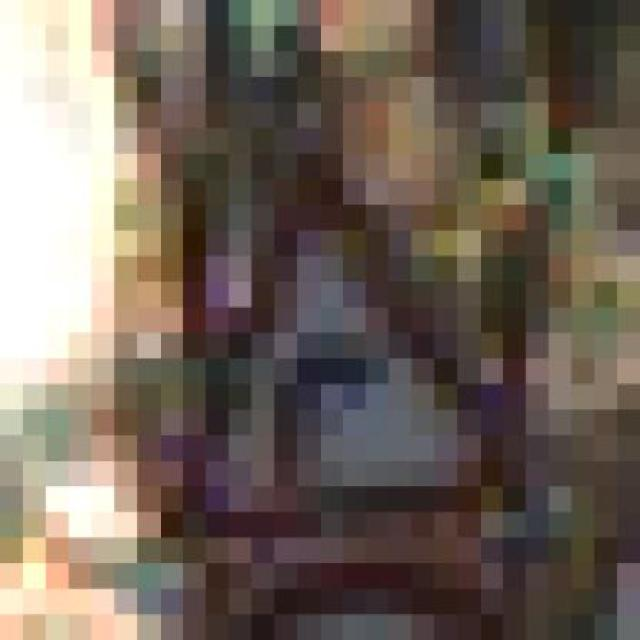Dangerous Rright Curve Ahead: (137, 154, 503, 563)
